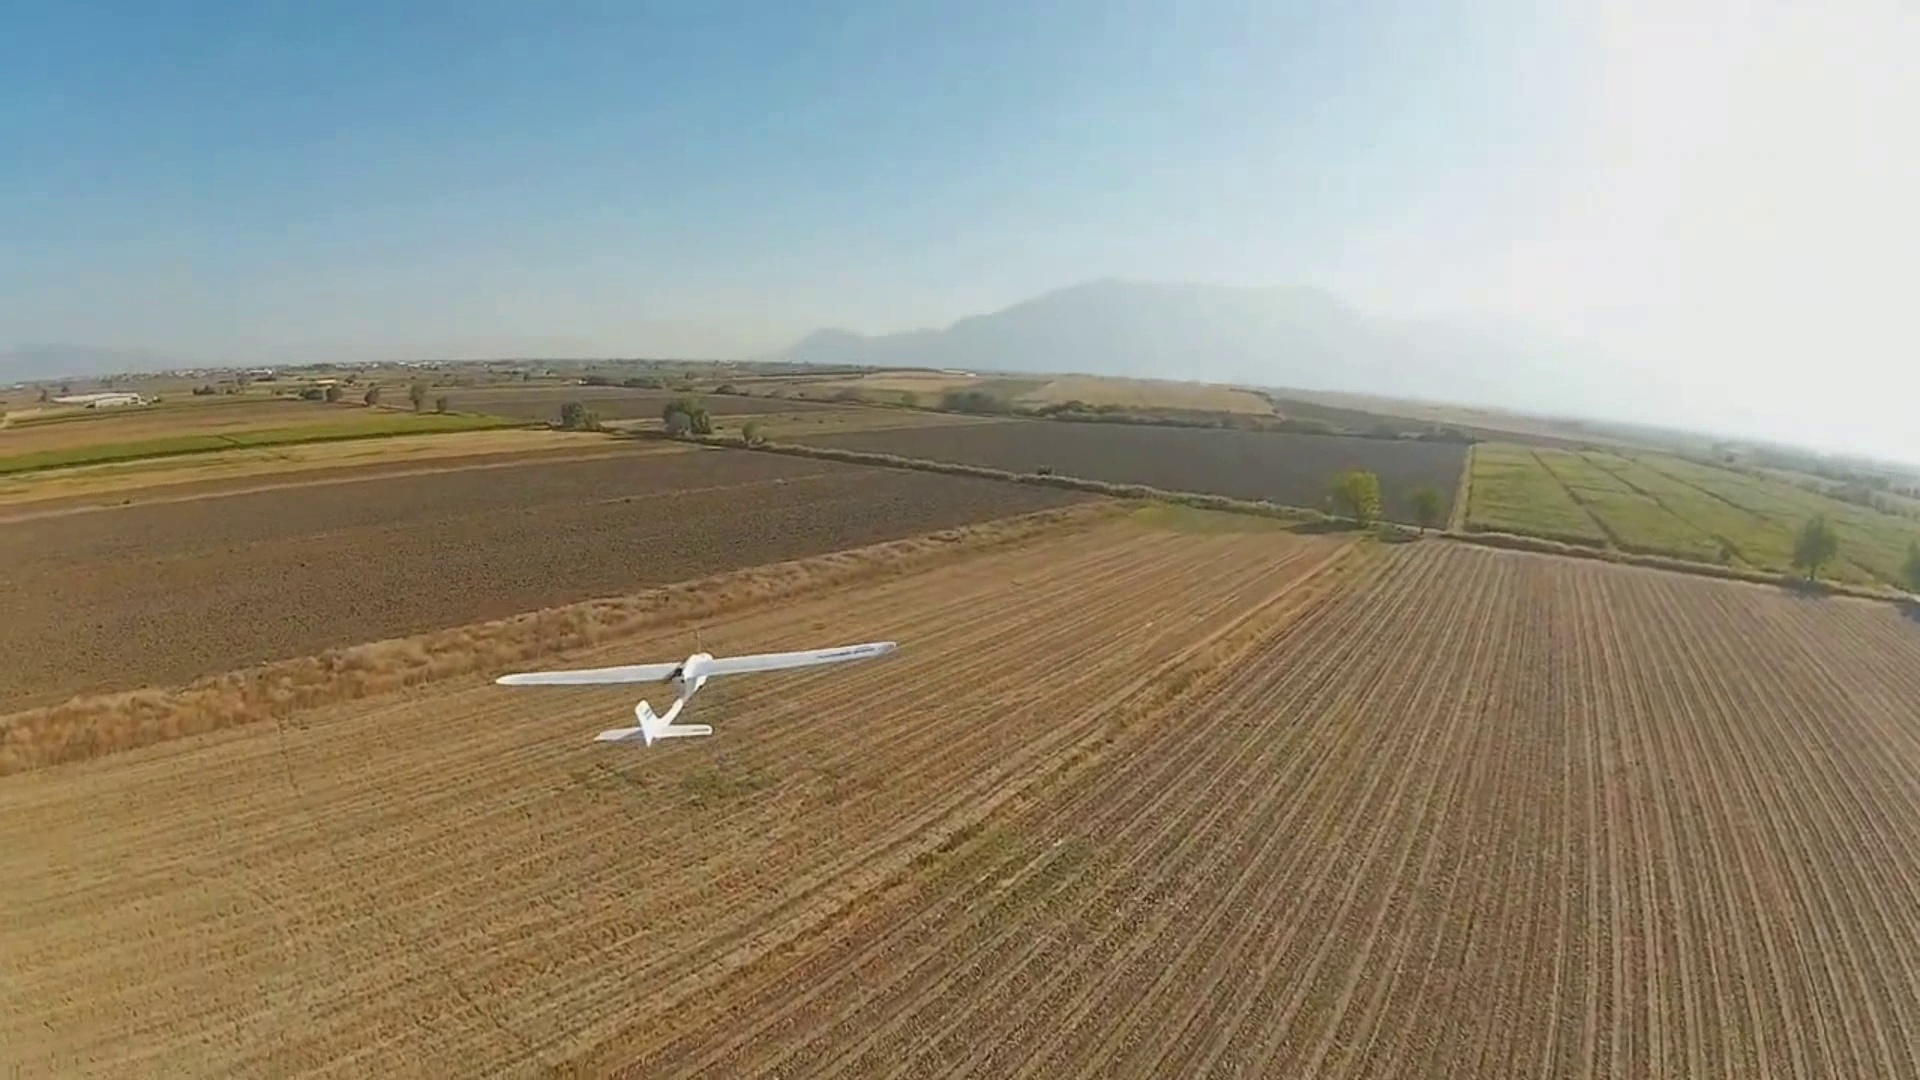airplane: (491, 644, 901, 754)
